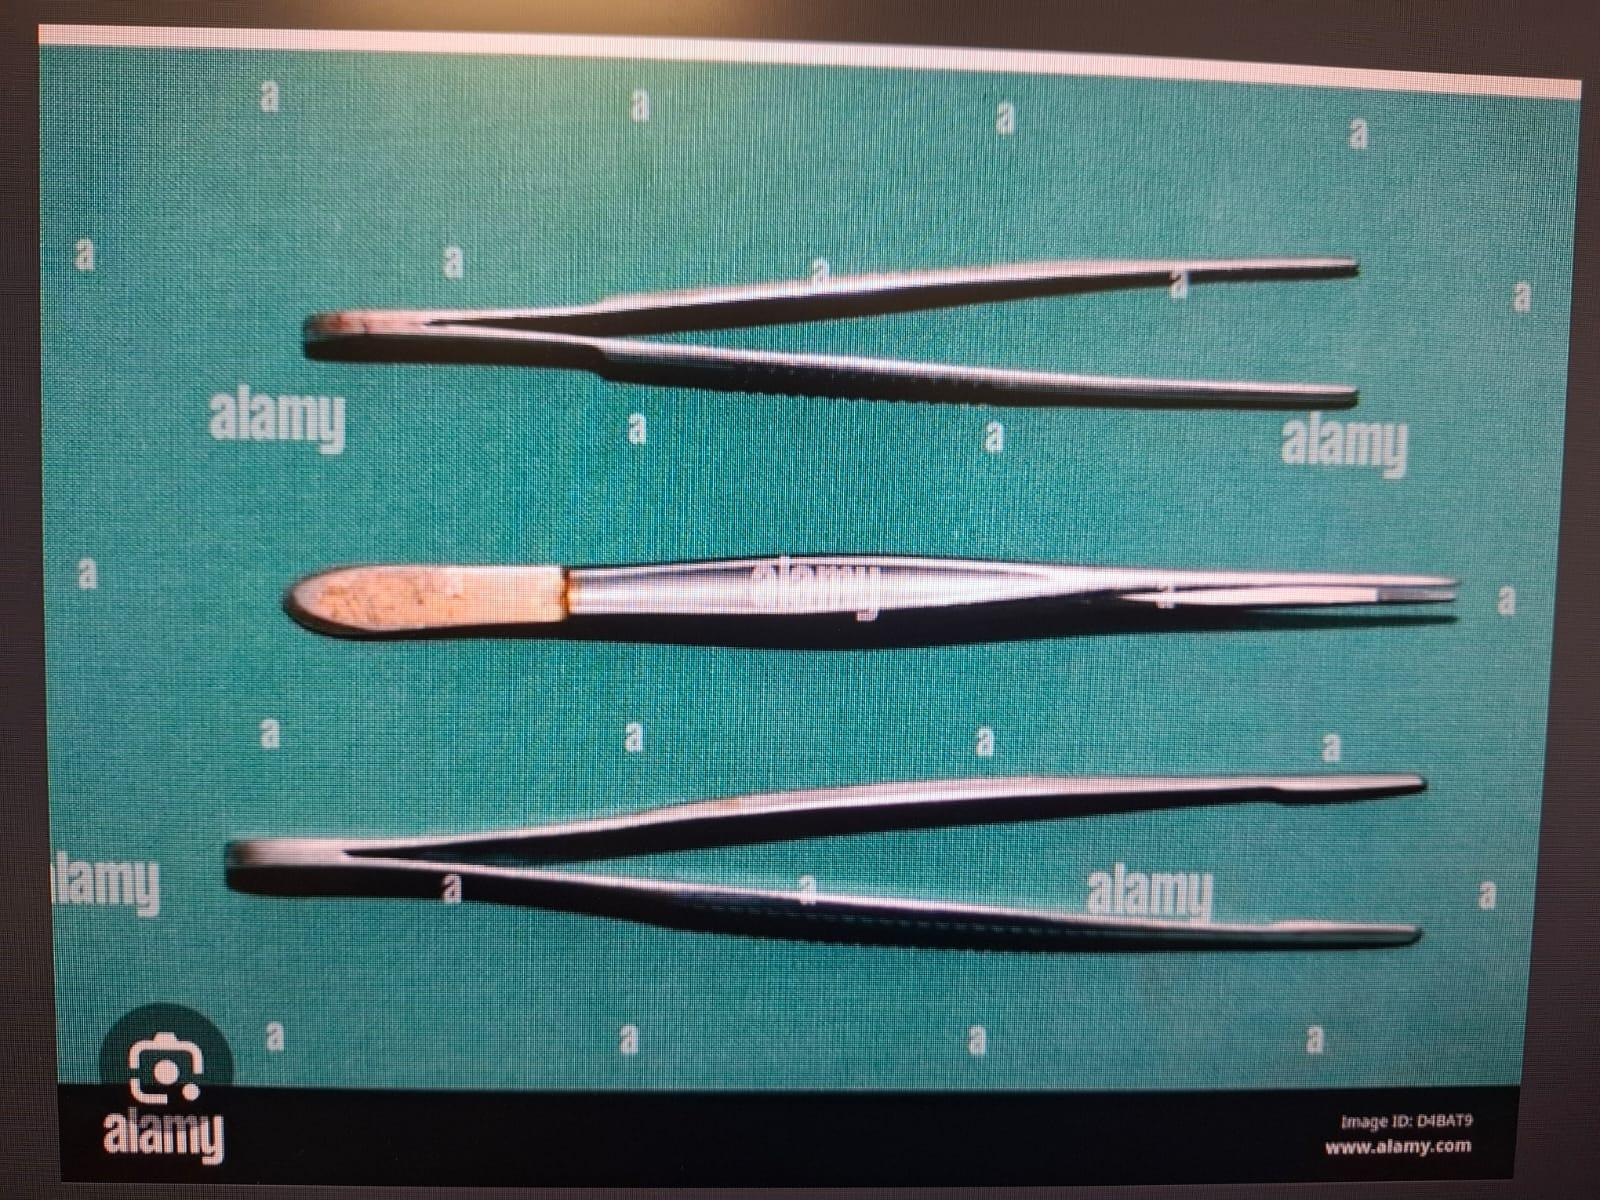Disscting Forceps: (222, 760, 1443, 976), (292, 226, 1400, 440), (282, 528, 1490, 684)
